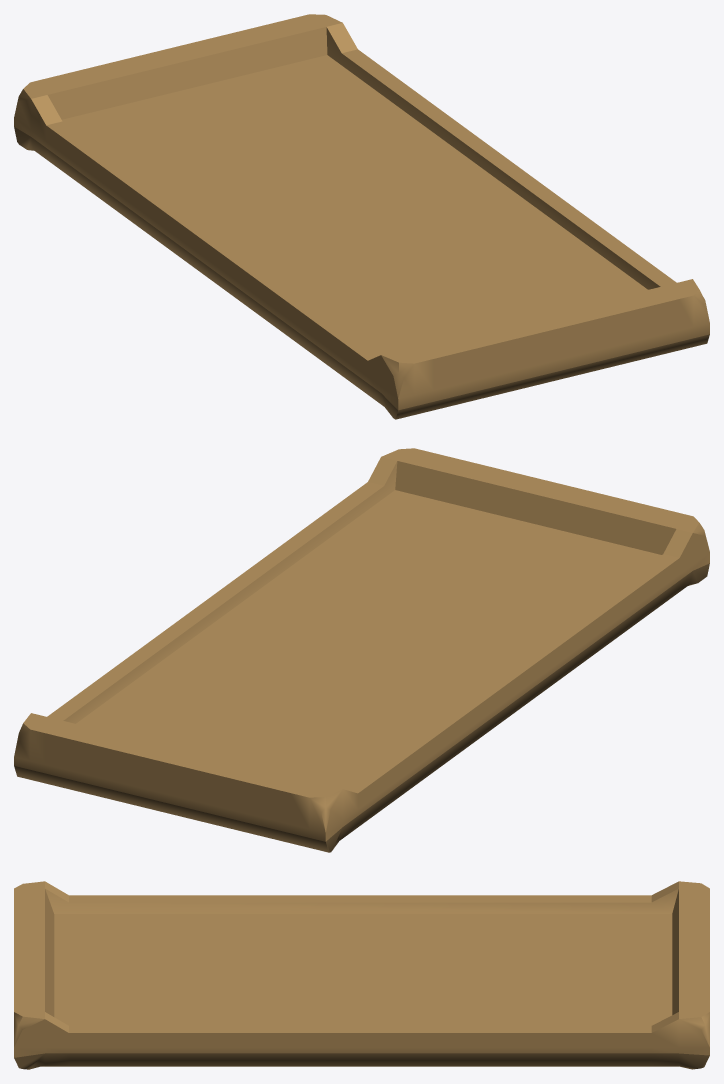
The model's file is podnos.fbx.
3 views of the same model, one above another, from view 1: azimuth 30°, elevation 25°; view 2: azimuth 150°, elevation 25°; view 3: azimuth 270°, elevation 25° (orthographic). The views are drawn at different scales.
Visible parts, largest first — view 1: Cube; view 2: Cube; view 3: Cube.
Part boxes in pixels (x1,y1,x2,y2): Cube: (14, 14, 709, 419); Cube: (14, 448, 709, 852); Cube: (14, 881, 709, 1069).
Bounding box in the file's own units: 2 × 0.3578 × 4.27.
